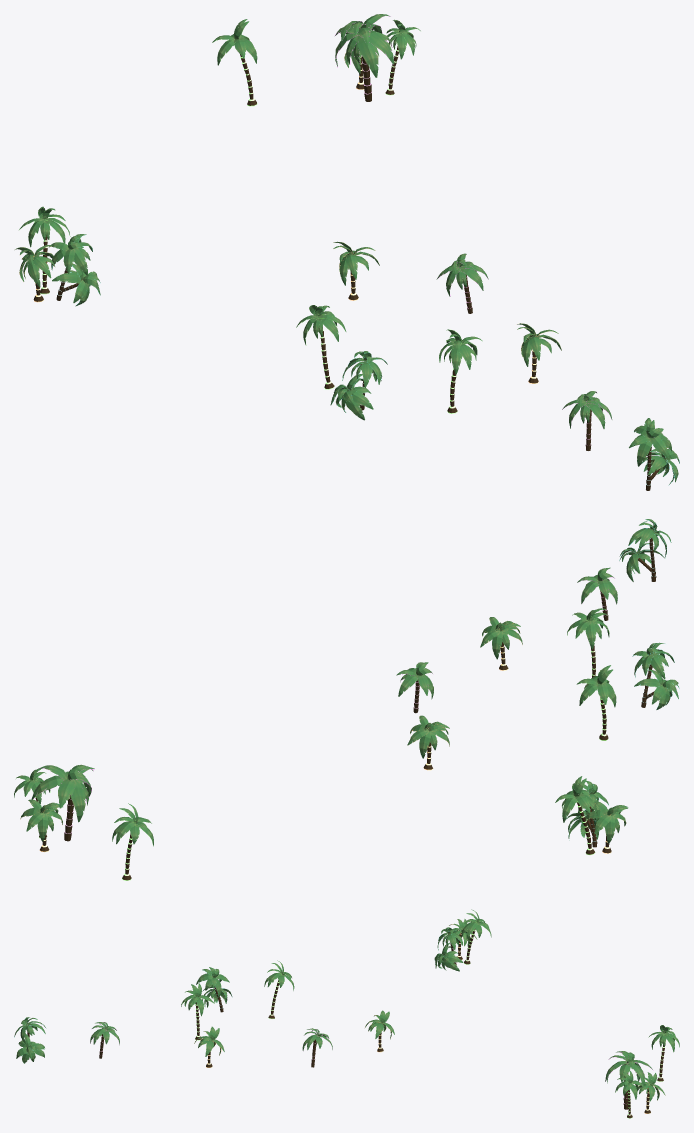
The model's file is Palm Trees.glb.
The picture shows the model from 3 angles, top to bottom: view 1: azimuth 30°, elevation 25°; view 2: azimuth 150°, elevation 25°; view 3: azimuth 270°, elevation 25°; orthographic projection. The views are drawn at different scales.
Parts seen in each view (by area): view 1: Palm Trees; view 2: Palm Trees; view 3: Palm Trees.
Boxes of the visible parts, x1,y1,x2,y2 form: Palm Trees: [14, 14, 679, 490]; Palm Trees: [14, 519, 679, 880]; Palm Trees: [14, 909, 679, 1118].
Size of what is drawn, in the model's own units: 47.96 by 8.75 by 79.32.
Materials: 7 (1 with a texture image).
